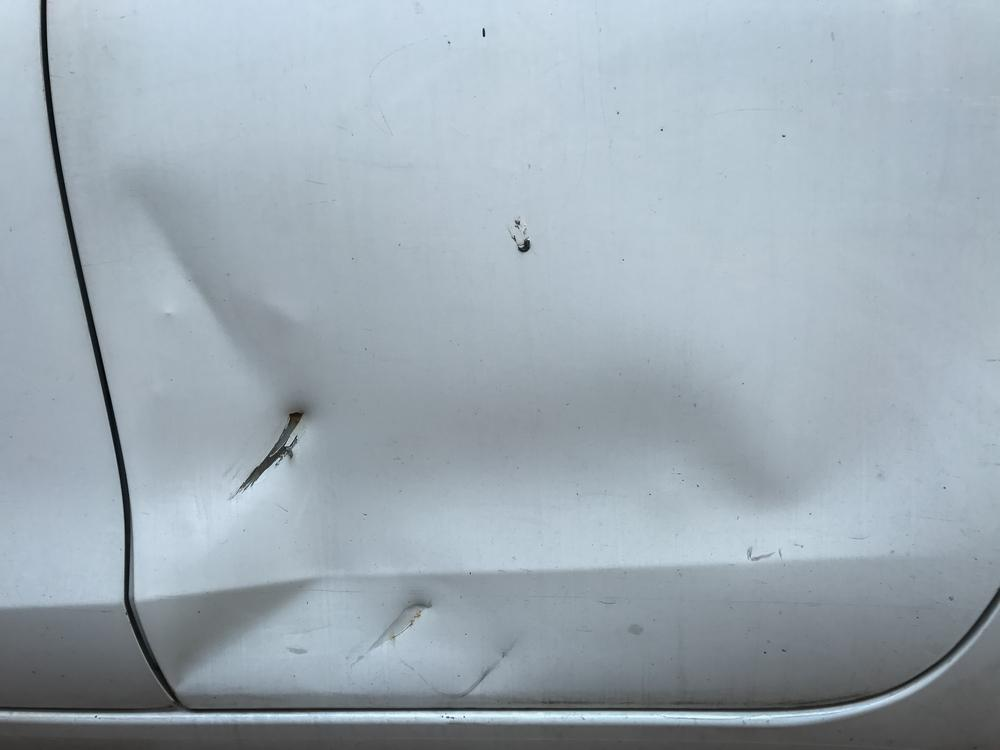dent: (106, 0, 1000, 698)
